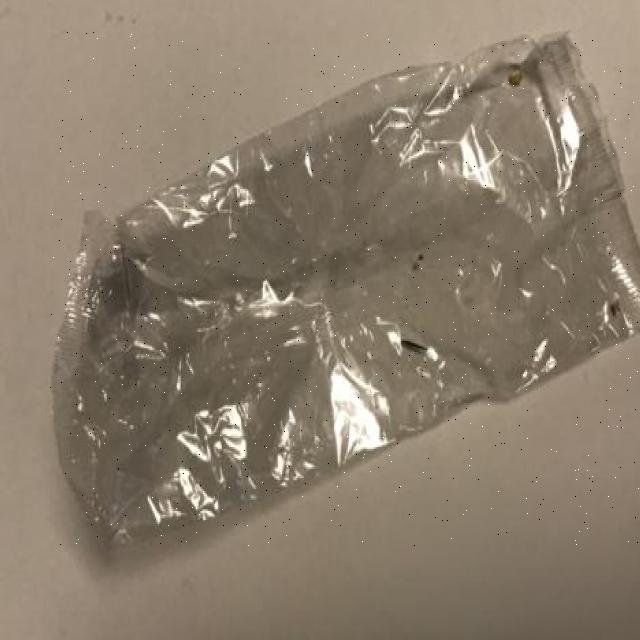plastic: (50, 33, 639, 546)
